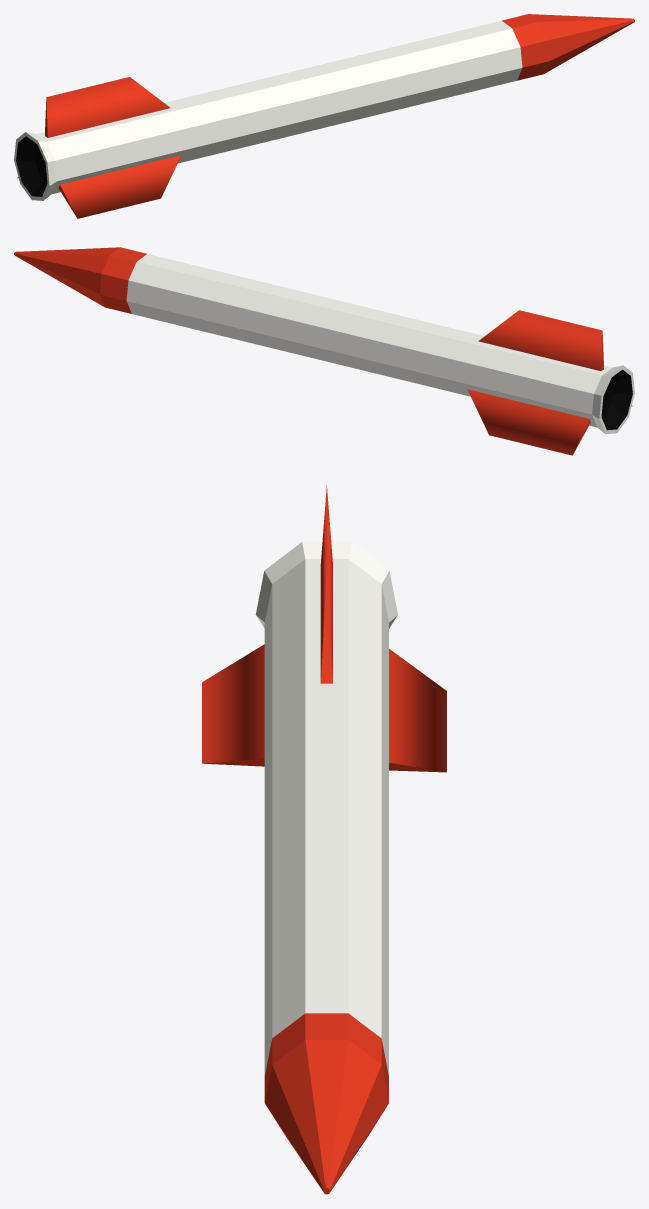
Rendered from rocket.gltf.
3 views of the same model, one above another, from view 1: azimuth 30°, elevation 25°; view 2: azimuth 150°, elevation 25°; view 3: azimuth 270°, elevation 25° (orthographic). The views are drawn at different scales.
Parts seen in each view (by area): view 1: rocketMain; view 2: rocketMain; view 3: rocketMain.
Boxes of the visible parts, box(x1,y1,x2,y2) form: rocketMain: box(14, 14, 634, 218); rocketMain: box(14, 247, 634, 455); rocketMain: box(202, 485, 446, 1194).
Bounding box in the file's own units: 1.54 × 0.2526 × 0.2712.
Materials: 1 (1 with a texture image).
